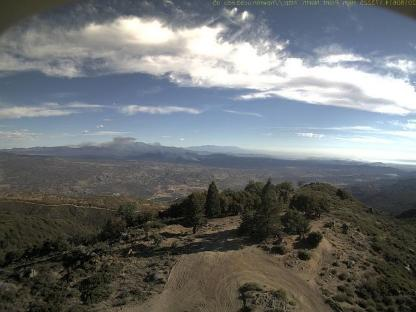smoke: (72, 134, 204, 164)
